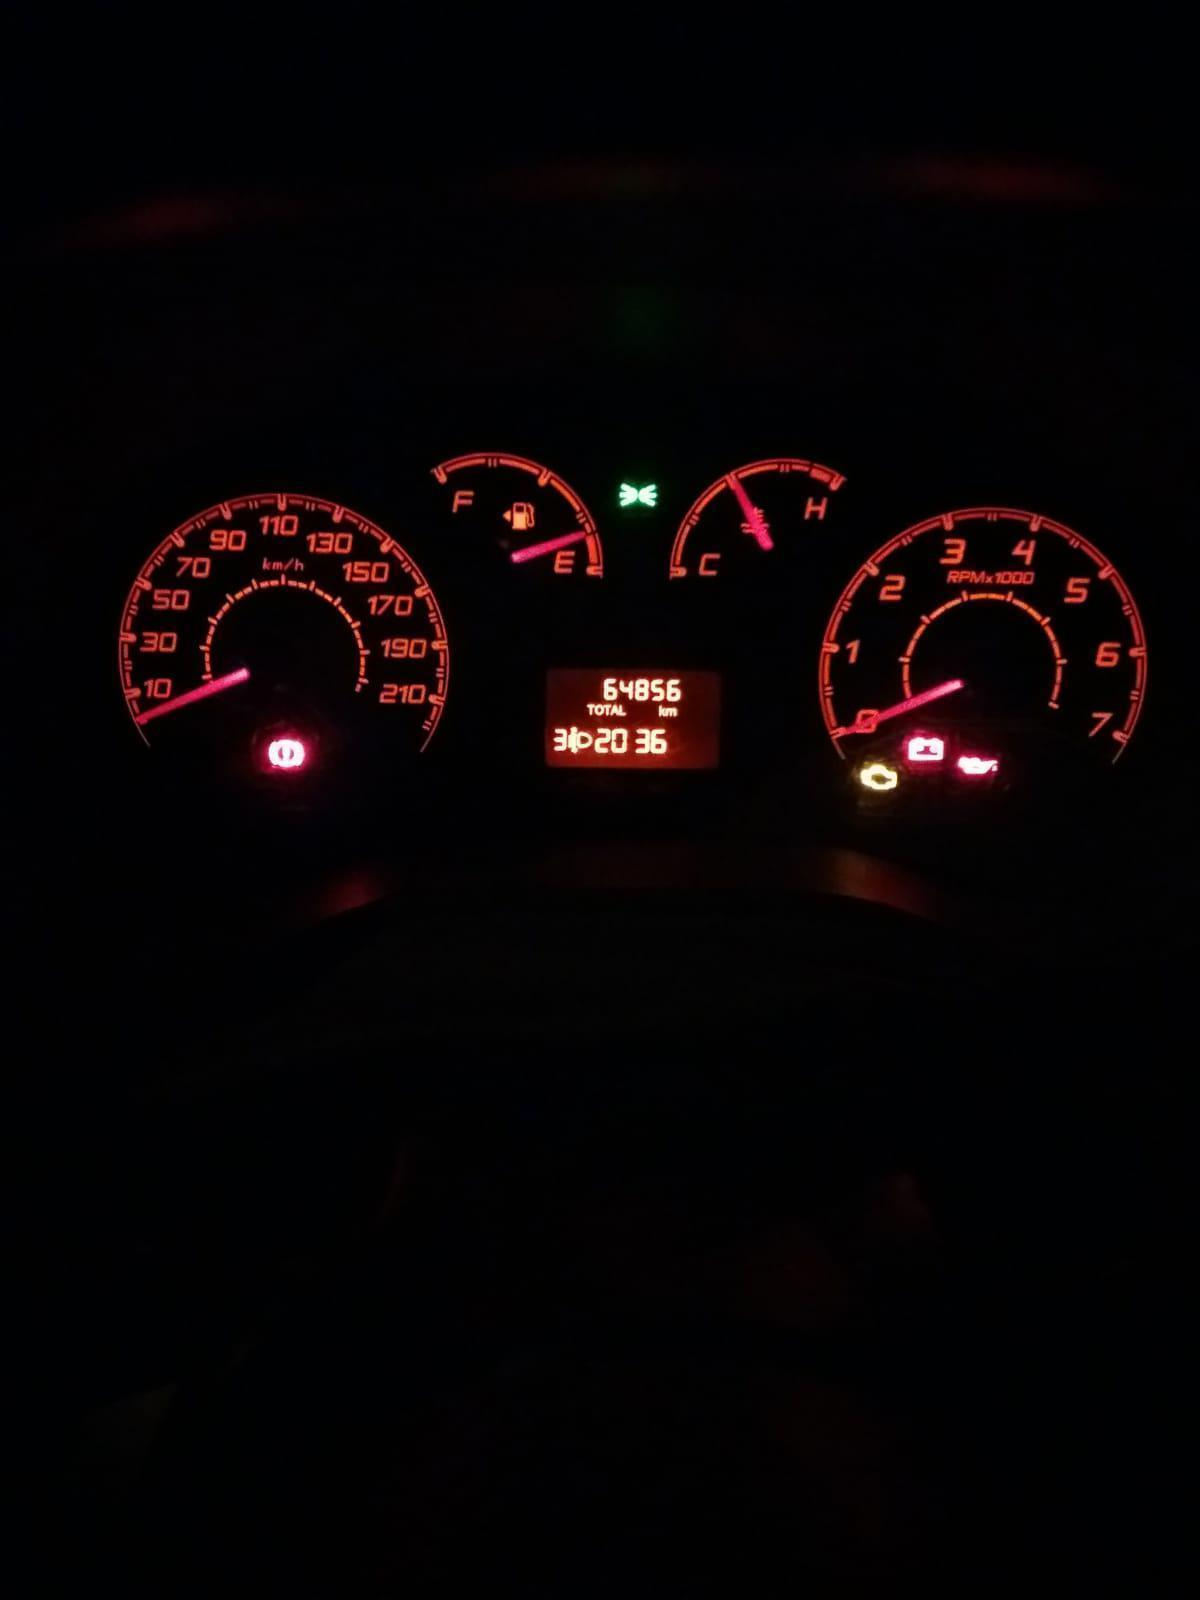0: (611, 727, 628, 753)
2: (592, 727, 611, 755)
3: (634, 727, 650, 753), (551, 727, 567, 753)
4: (618, 678, 634, 700)
5: (650, 678, 664, 702)
6: (650, 727, 668, 753), (666, 678, 682, 702), (601, 677, 618, 700)
8: (634, 677, 649, 702)
X: (663, 706, 679, 718), (592, 703, 604, 716), (603, 703, 613, 717), (609, 703, 619, 716), (657, 703, 666, 717), (618, 703, 626, 717), (585, 702, 594, 716)
odometer: (546, 669, 718, 769)
